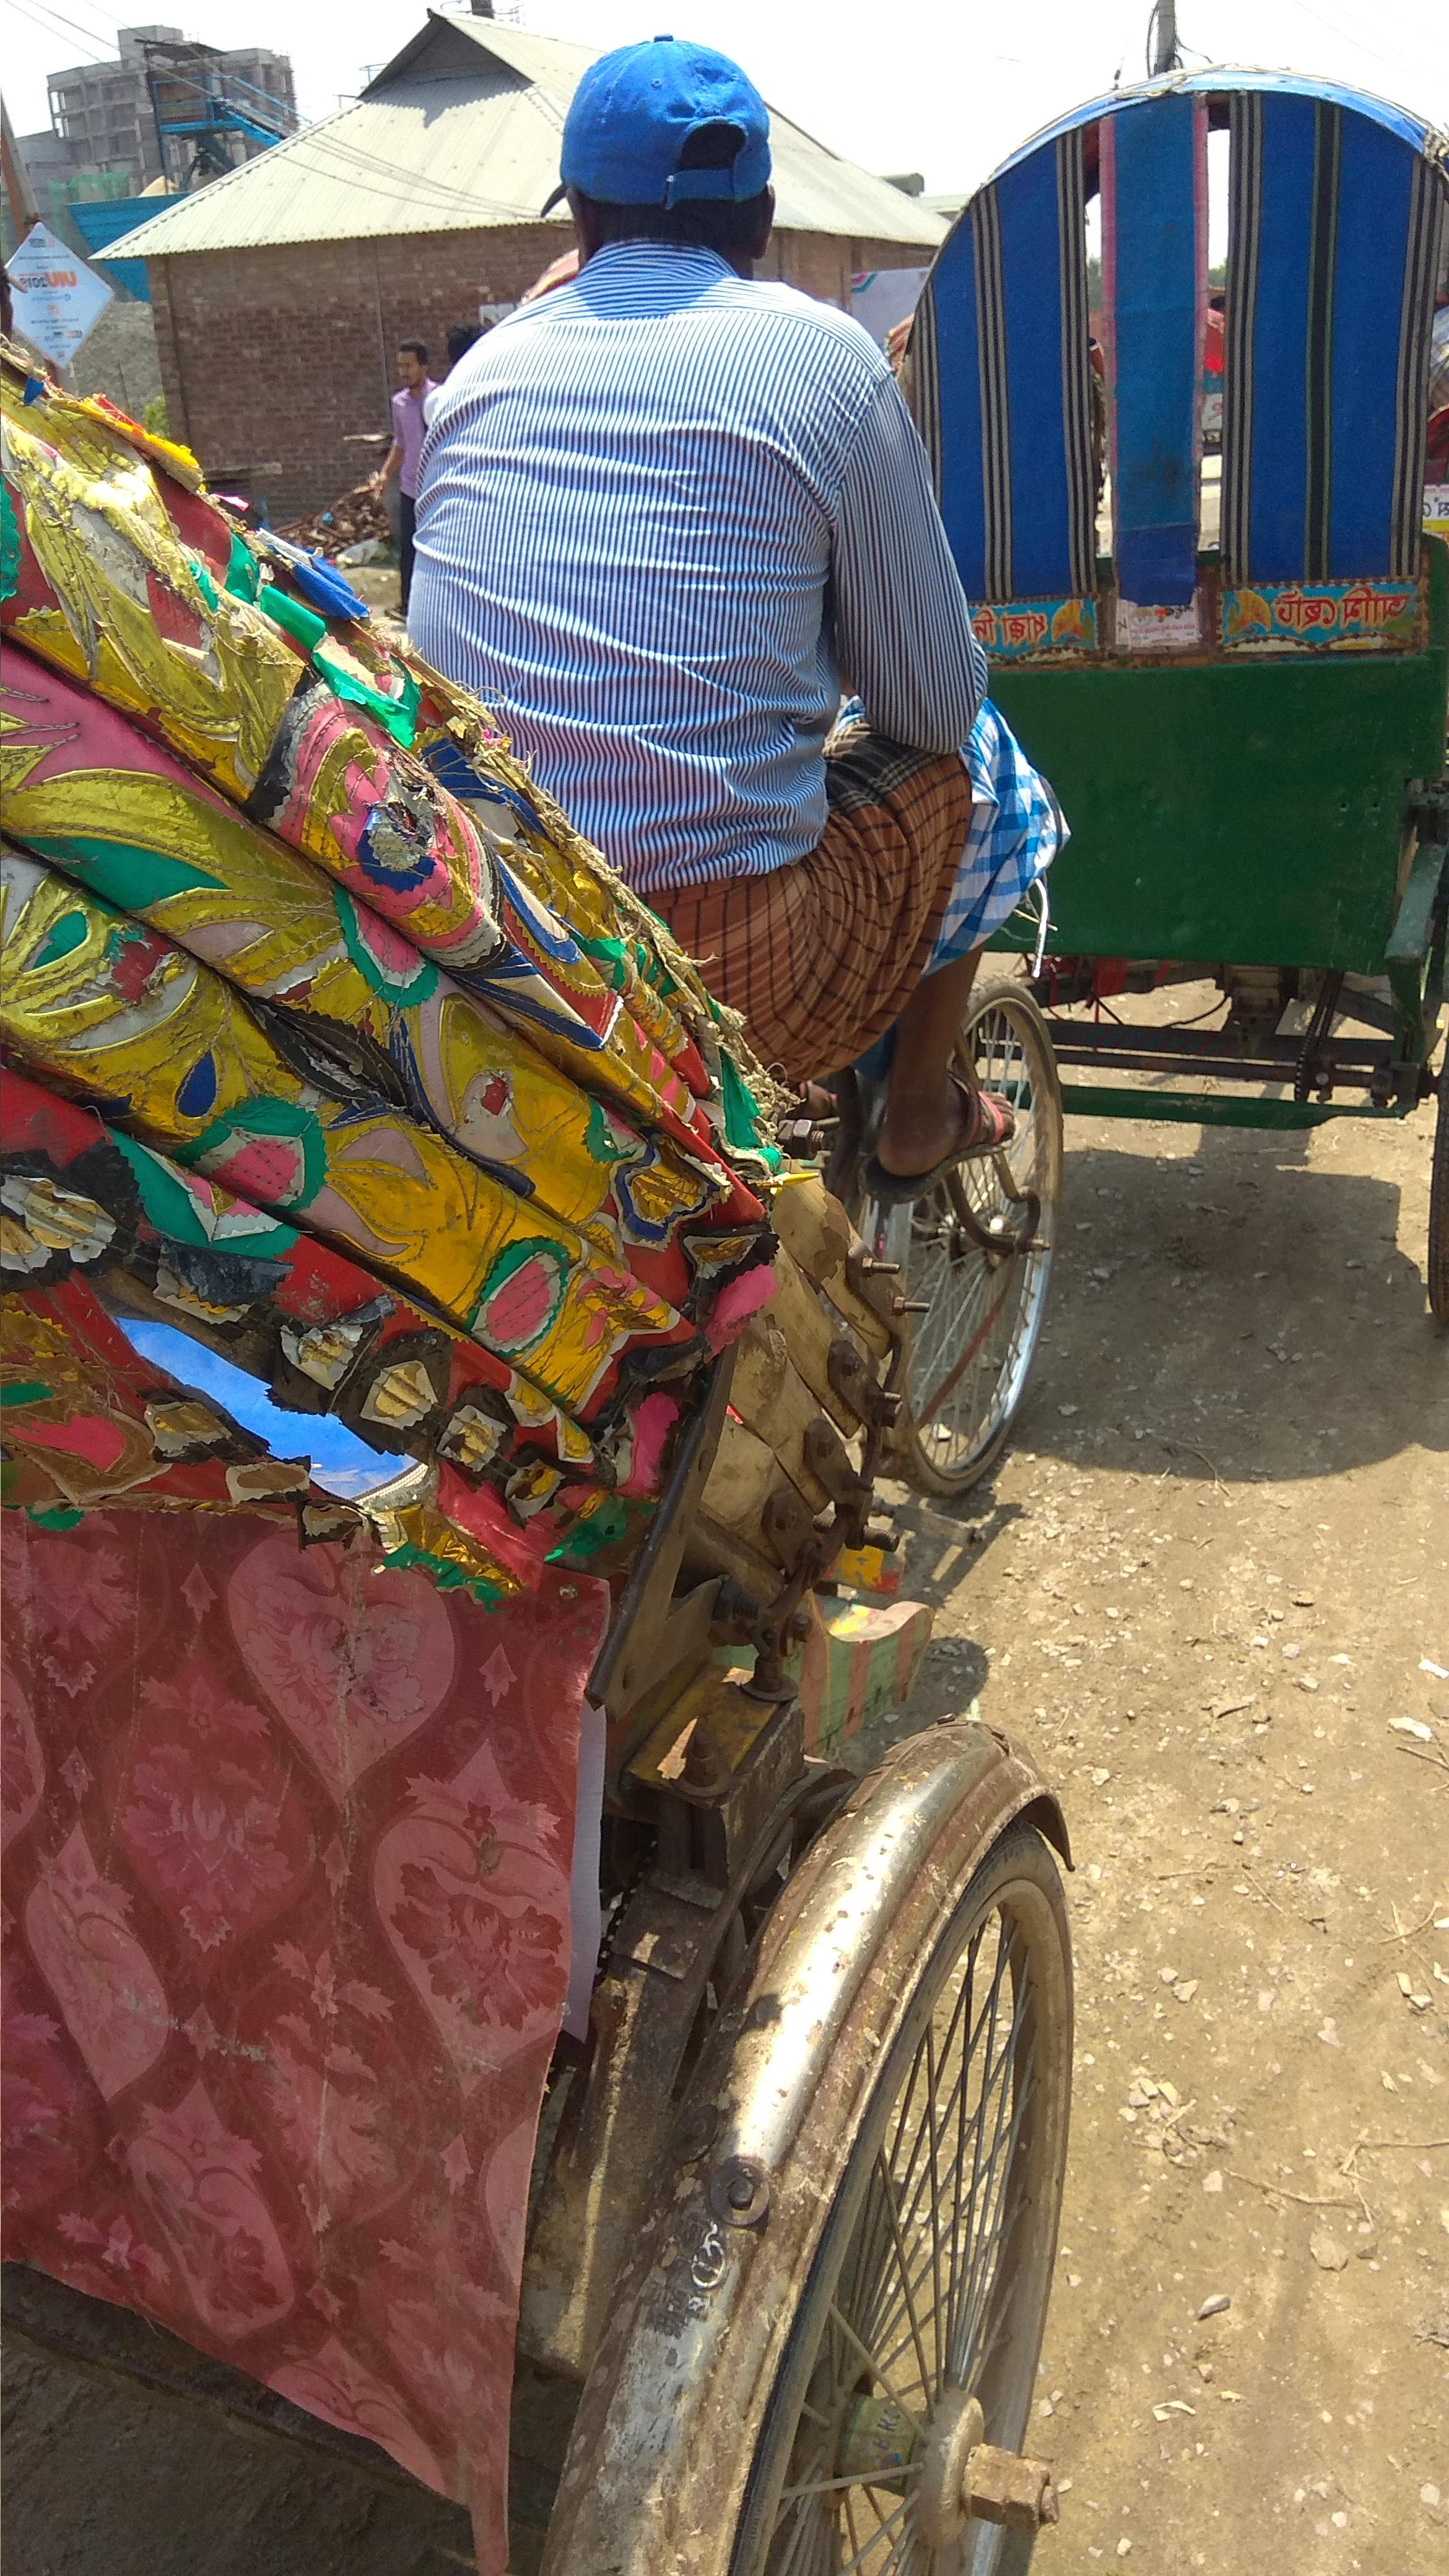Rickshaw: (4, 322, 1136, 2357), (847, 37, 1440, 1247)
